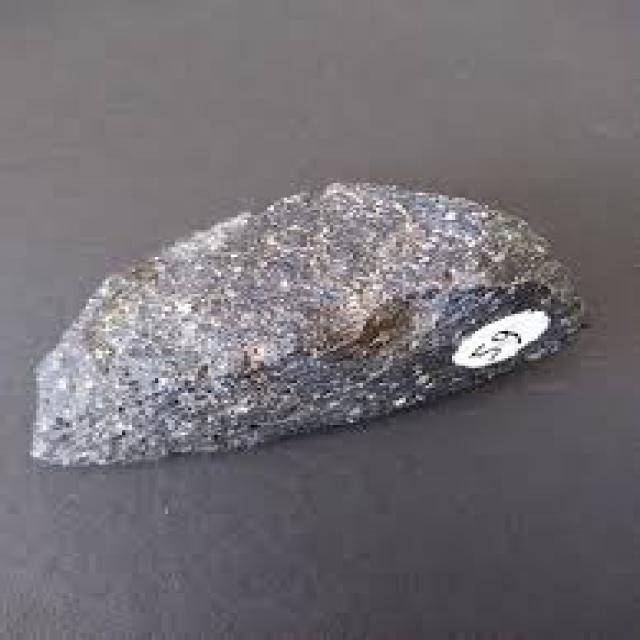Igneous: (23, 180, 597, 462)
